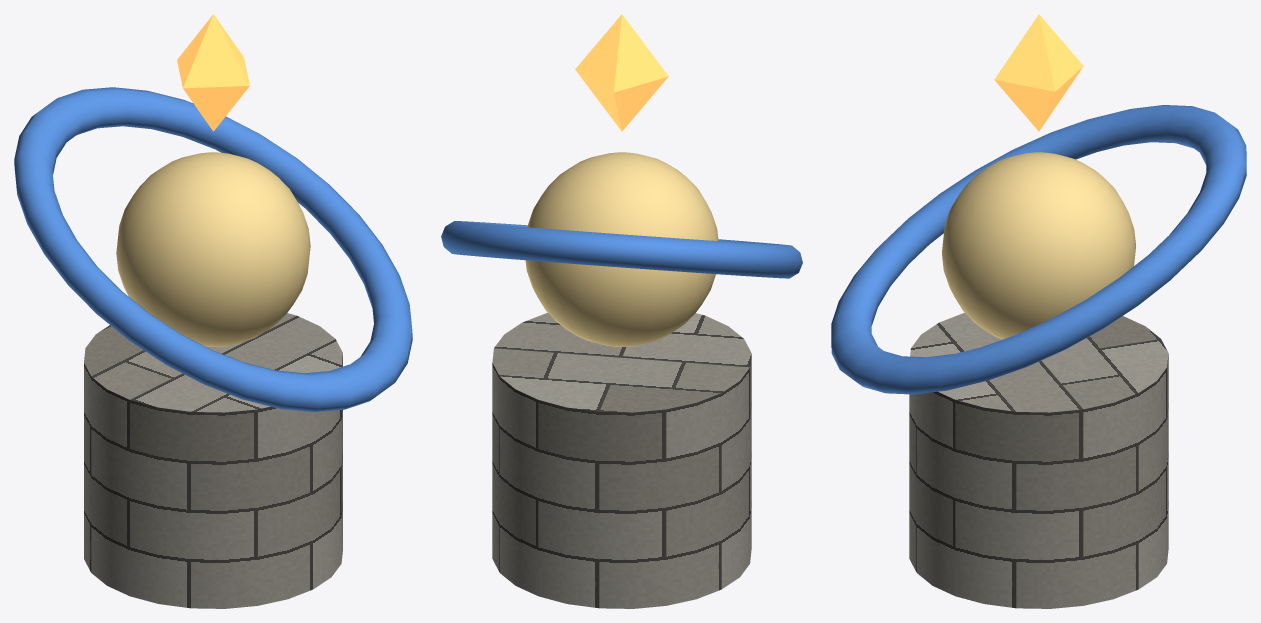
Rendered from totem.gltf.
The picture shows the model from 3 angles, left to right: view 1: azimuth 30°, elevation 25°; view 2: azimuth 150°, elevation 25°; view 3: azimuth 270°, elevation 25°; orthographic projection.
Visible parts, largest first — view 1: pillar, ring, orb, ember; view 2: pillar, orb, ring, ember; view 3: pillar, ring, orb, ember.
Boxes of the visible parts, x1=… form: pillar: x1=84, y1=313, x2=342, y2=608; ring: x1=14, y1=87, x2=412, y2=412; orb: x1=116, y1=152, x2=310, y2=346; ember: x1=177, y1=14, x2=249, y2=131; pillar: x1=492, y1=312, x2=751, y2=608; orb: x1=525, y1=152, x2=718, y2=346; ring: x1=441, y1=221, x2=802, y2=278; ember: x1=575, y1=14, x2=668, y2=131; pillar: x1=909, y1=312, x2=1168, y2=608; ring: x1=831, y1=105, x2=1246, y2=394; orb: x1=942, y1=152, x2=1135, y2=339; ember: x1=994, y1=14, x2=1083, y2=131.
Size of the model in its own units: 1.7 by 2.75 by 1.92.
Materials: 4 (1 with a texture image).
